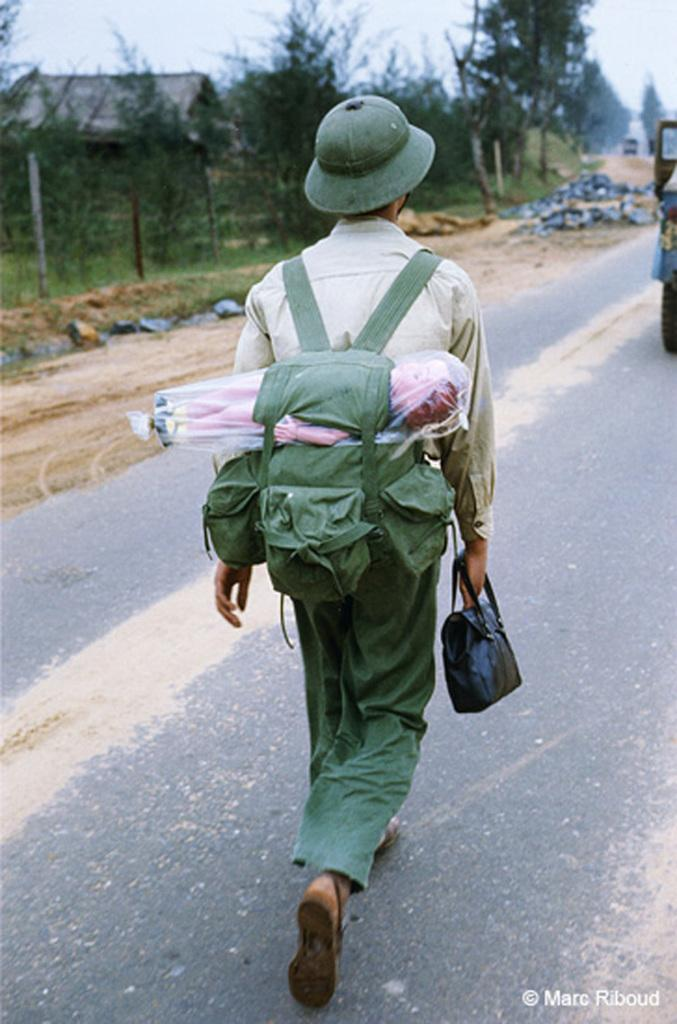Hat: (304, 92, 436, 218)
